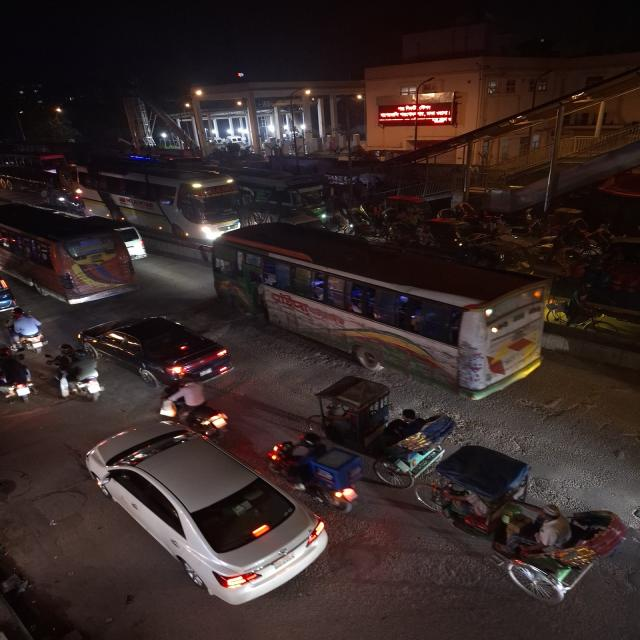bus: (212, 220, 558, 396), (0, 196, 141, 304), (74, 154, 244, 243), (244, 170, 327, 223)
car: (83, 428, 333, 601), (78, 310, 239, 388)
motorcycle: (271, 433, 366, 509), (156, 375, 231, 436), (51, 342, 110, 404), (0, 347, 40, 407), (4, 307, 50, 355)
rickshaw: (424, 451, 630, 605), (348, 406, 455, 486), (306, 376, 399, 430)
